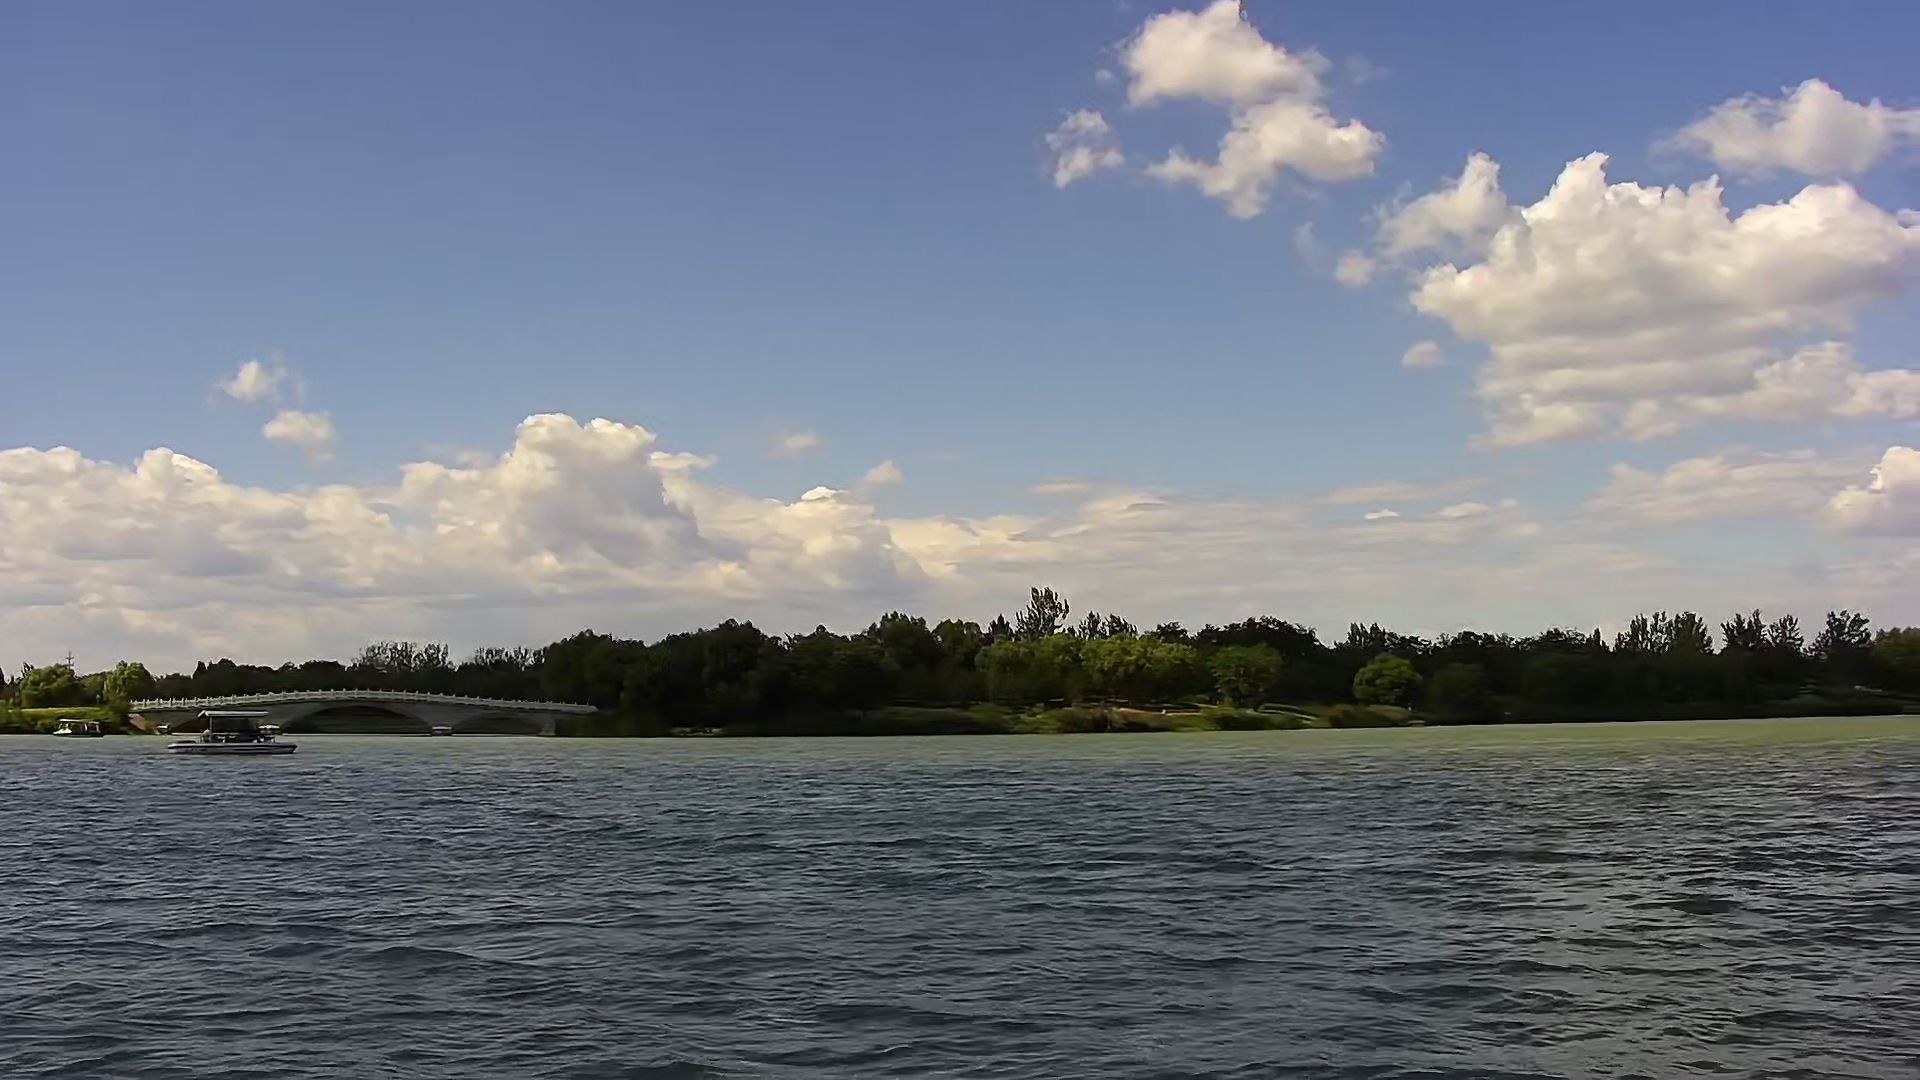boat: (167, 707, 295, 761)
bridge: (127, 678, 617, 741)
